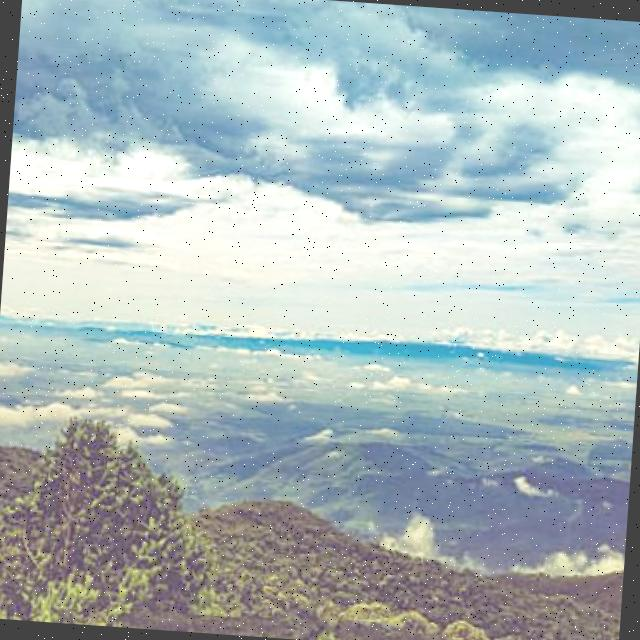Ns: (6, 1, 640, 269)
